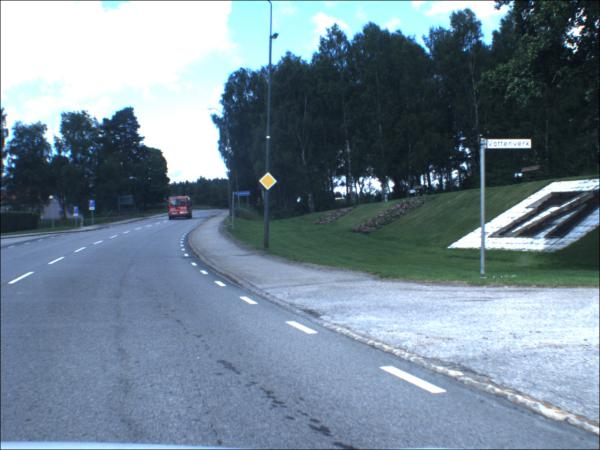PRIORITY_ROAD: (260, 171, 279, 194)
